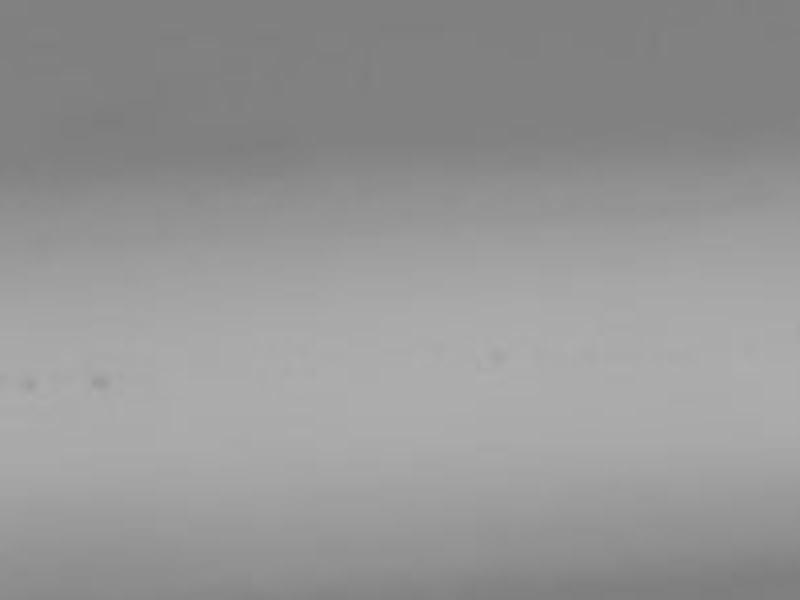defect: (483, 343, 509, 366), (18, 378, 42, 397), (89, 373, 111, 392)
